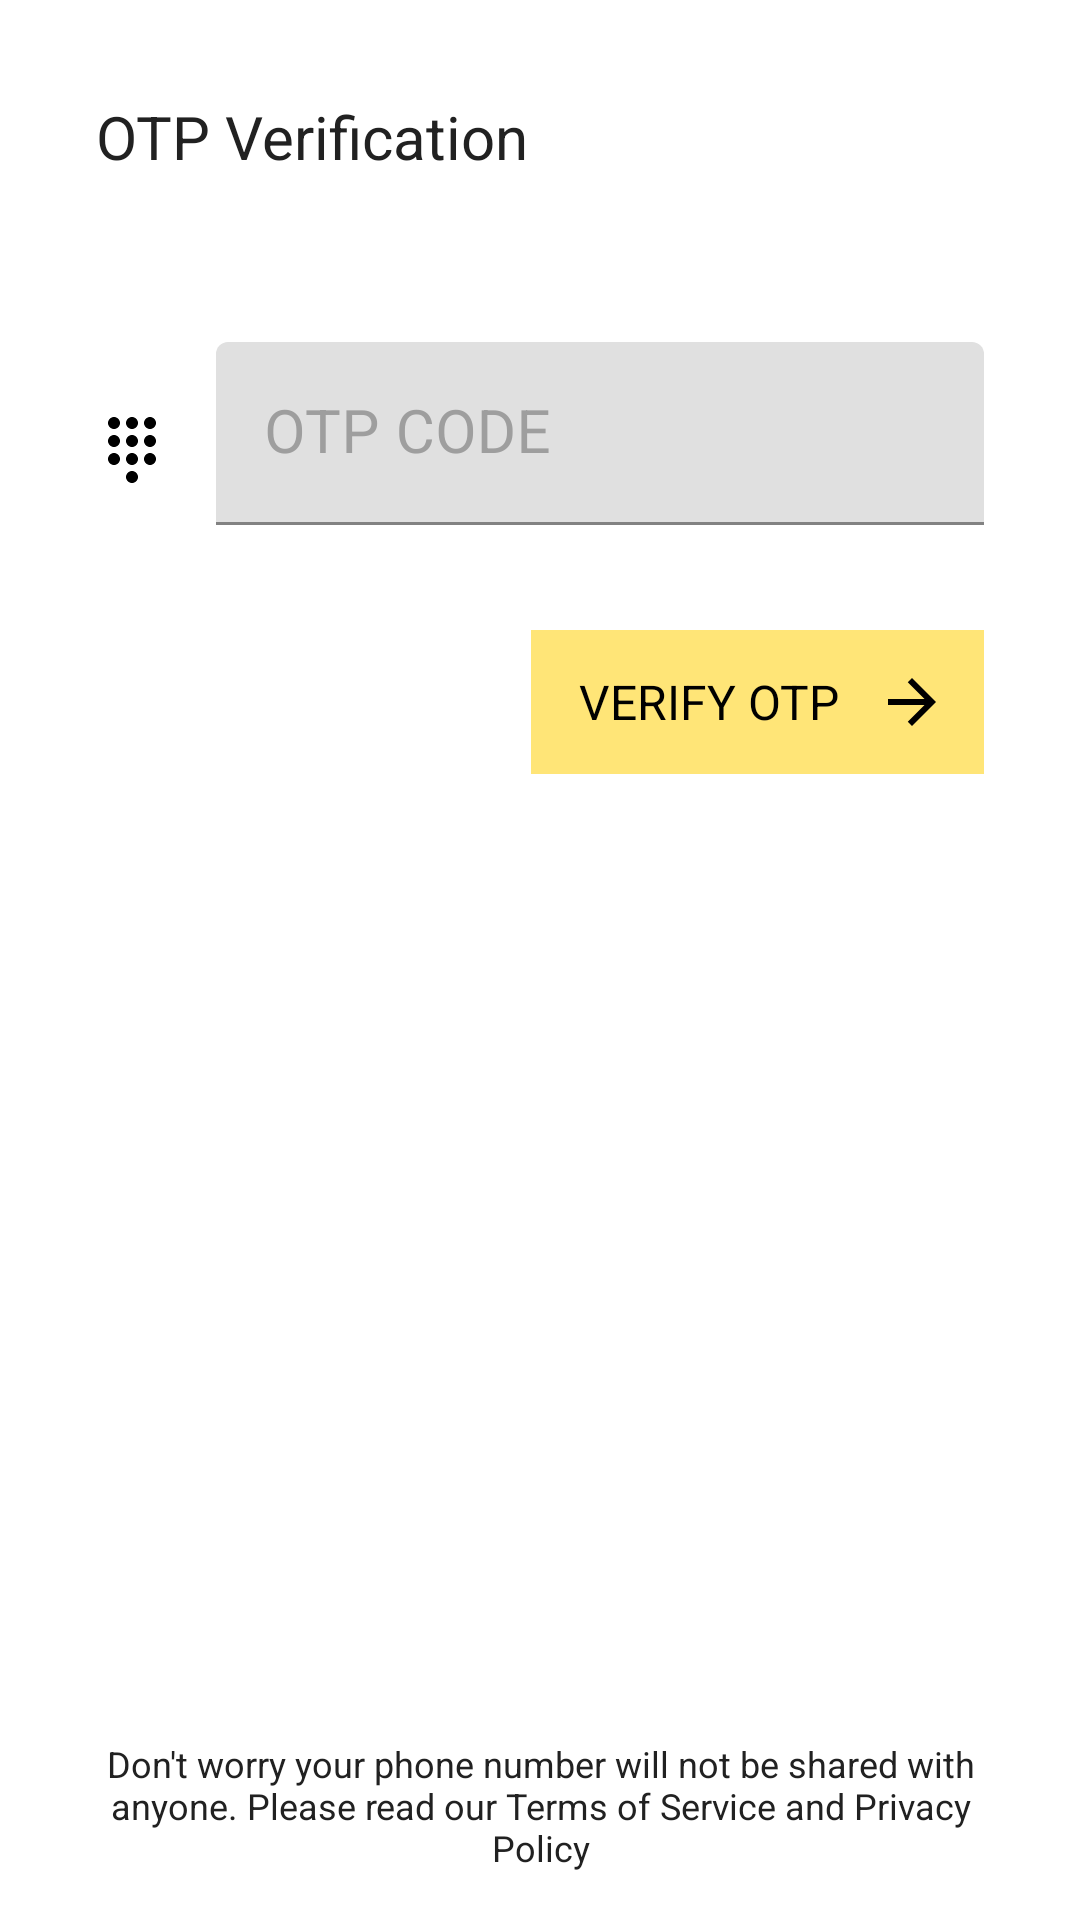

Point at icon controls on the screen. Image size 1080 x 1920, points as [x,y].
dialpad: [132,450]
next: [912,702]
